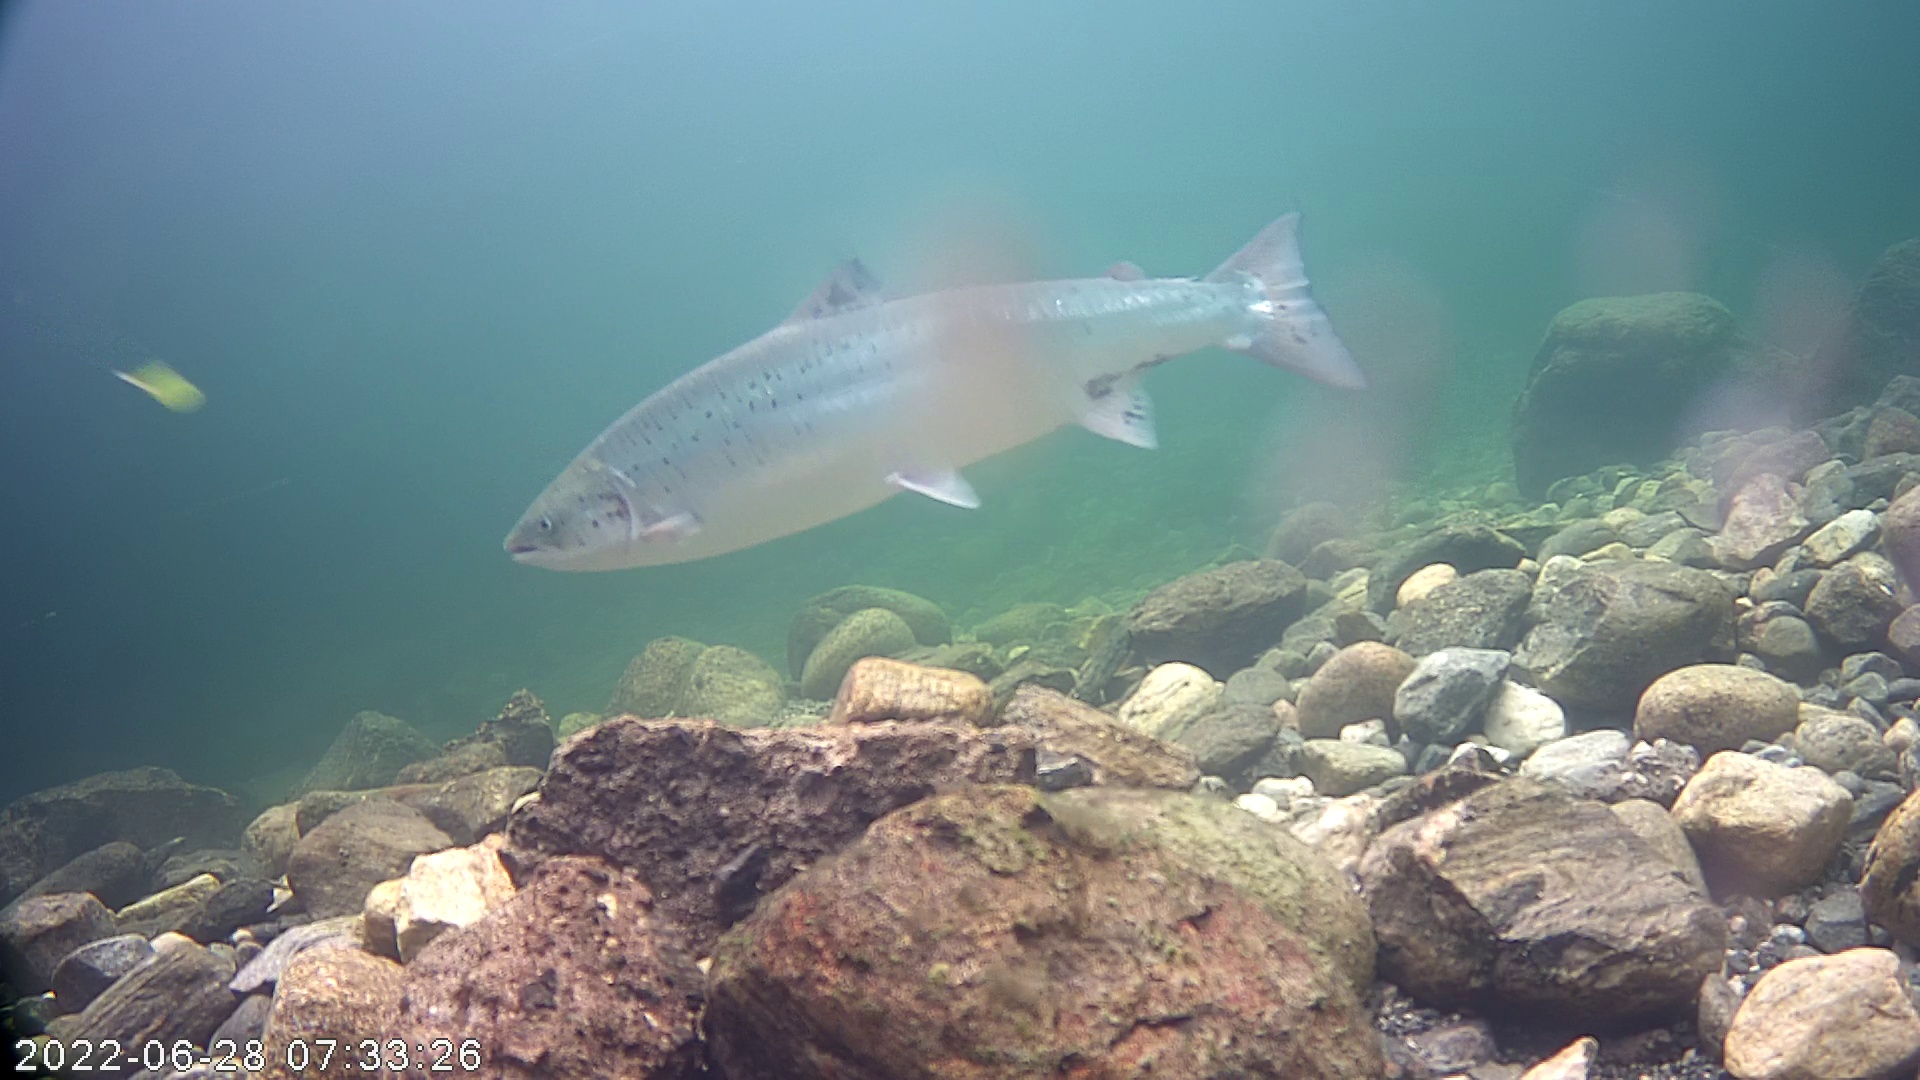salmon: (500, 152, 1400, 603)
